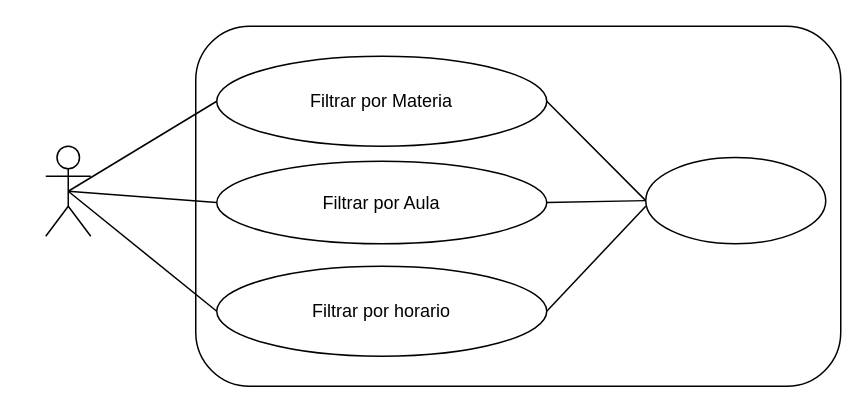
This 867x413 diagram has some shape labels left out. Here are the shapes that lost their labels. From the top down, the centre of each, then its label:
At point 67,190: "Estudiante".
At point 735,200: "Visualizacion de las Materias".
